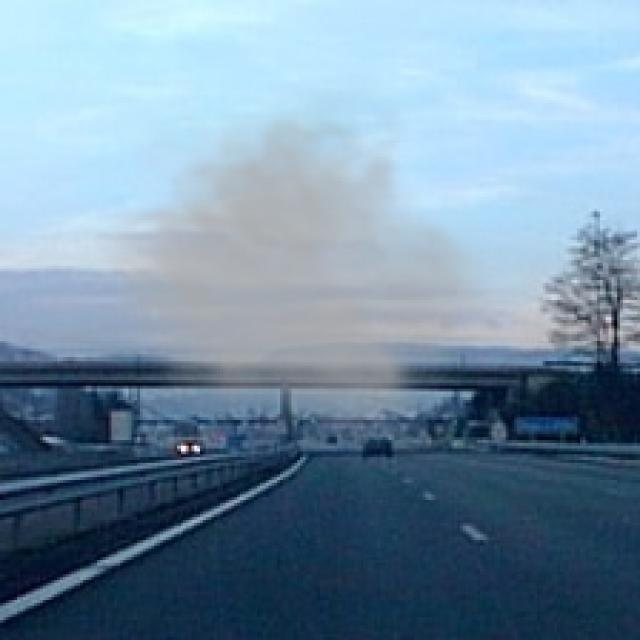Smoke: (86, 74, 508, 437)
